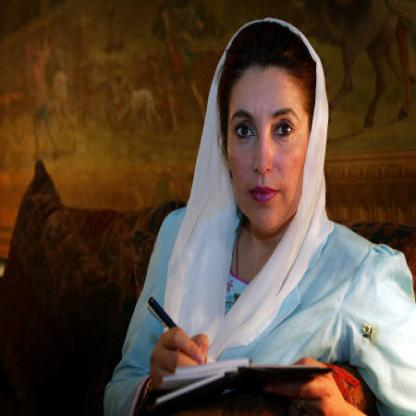face: (225, 30, 317, 232)
